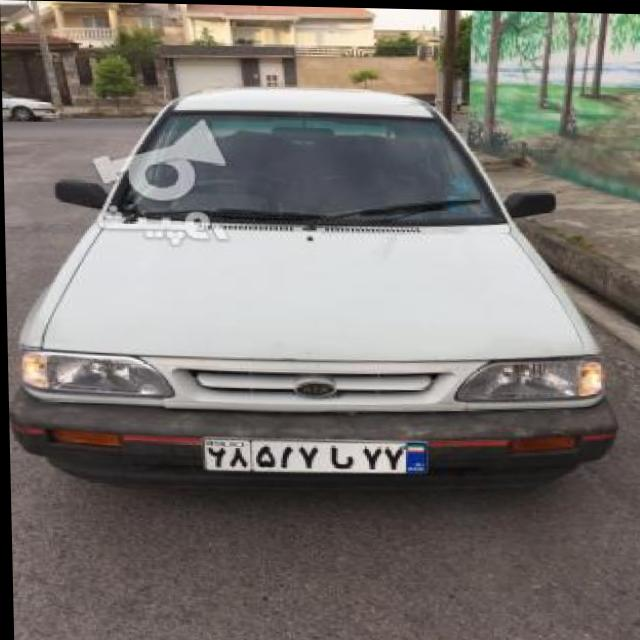licence: (200, 432, 435, 473)
